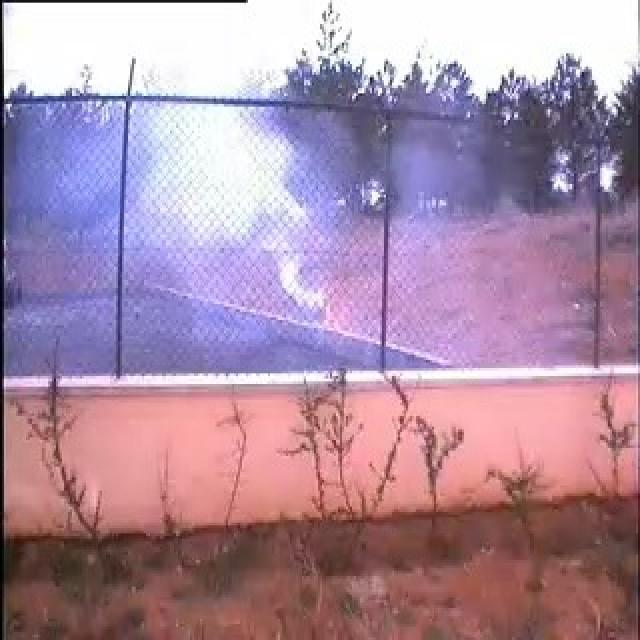smoke: (54, 94, 360, 368)
